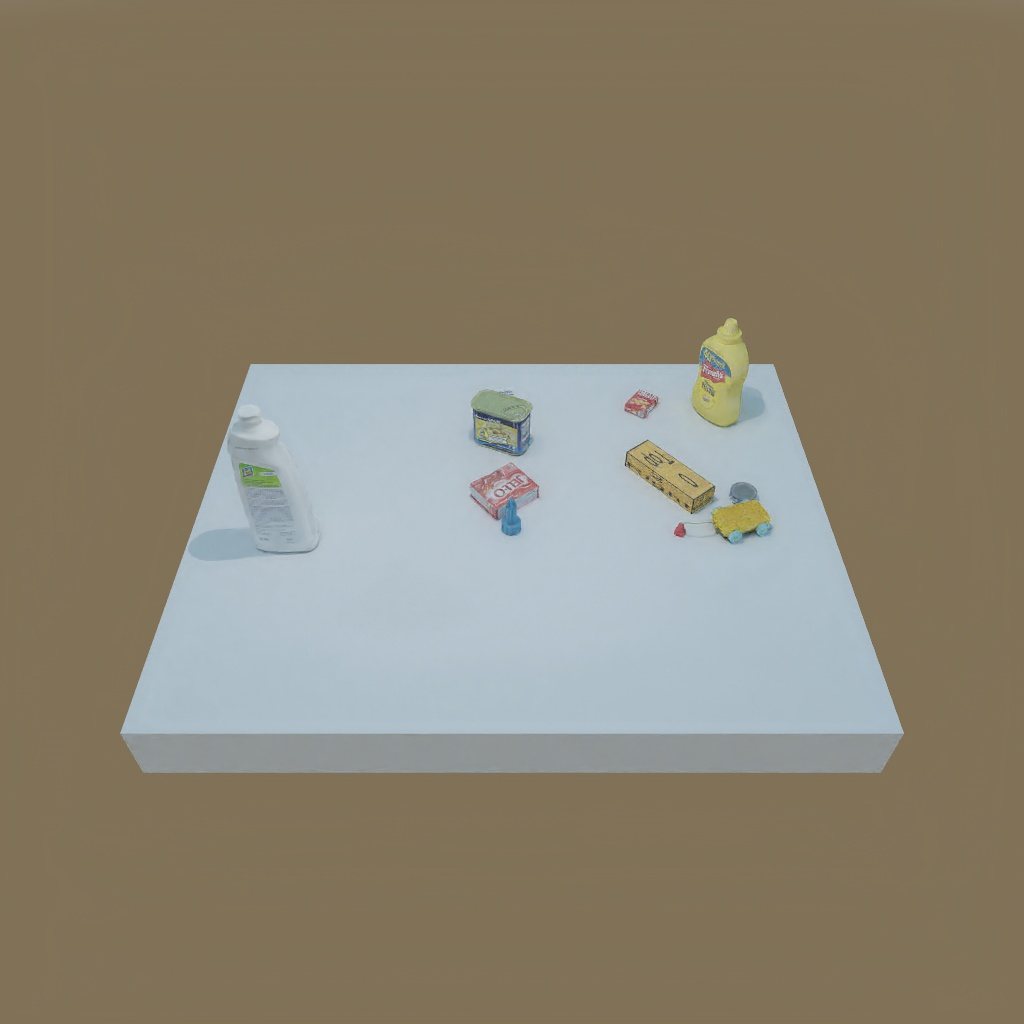gelatin_box: (471, 463, 540, 516)
jenga: (624, 436, 716, 511)
mustard_bottle: (693, 313, 756, 429)
potted_meat_can: (470, 389, 537, 457)
